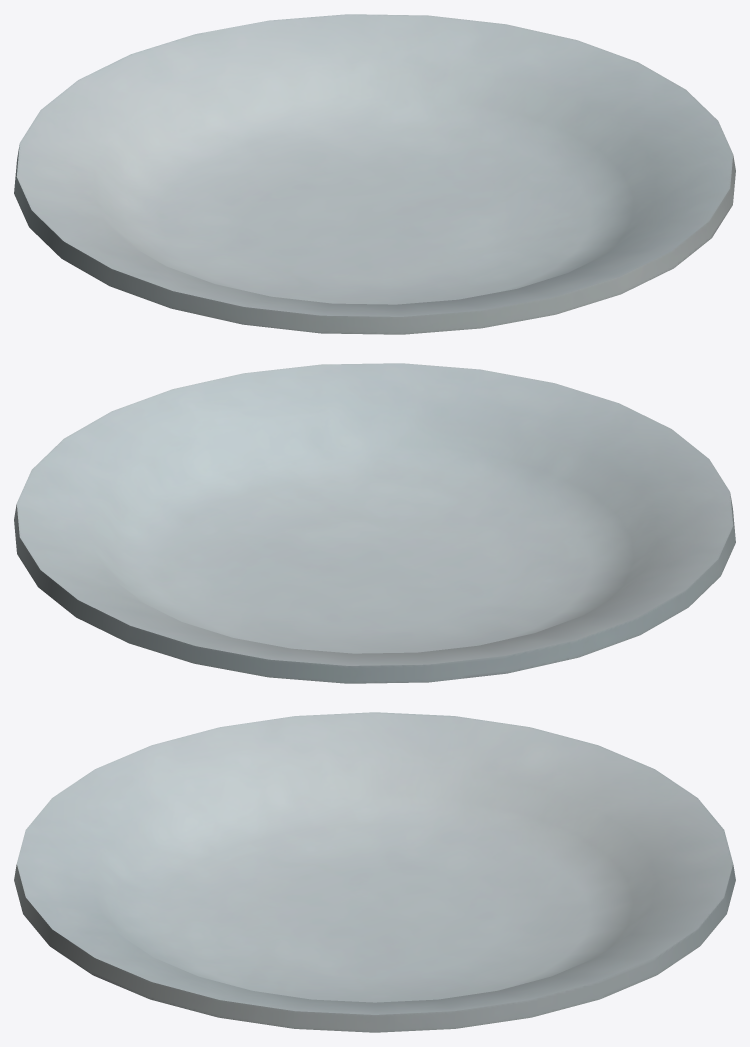
The model's file is Plate.fbx.
3 renders of one model, top to bottom at view 1: azimuth 30°, elevation 25°; view 2: azimuth 150°, elevation 25°; view 3: azimuth 270°, elevation 25°, orthographic.
Visible parts, largest first — view 1: Plate; view 2: Plate; view 3: Plate.
Boxes of the visible parts, <box> form: Plate: <box>14,14,735,334</box>; Plate: <box>14,363,735,683</box>; Plate: <box>14,712,735,1032</box>.
Size of the model in its own units: 71.74 by 7.54 by 71.74.
